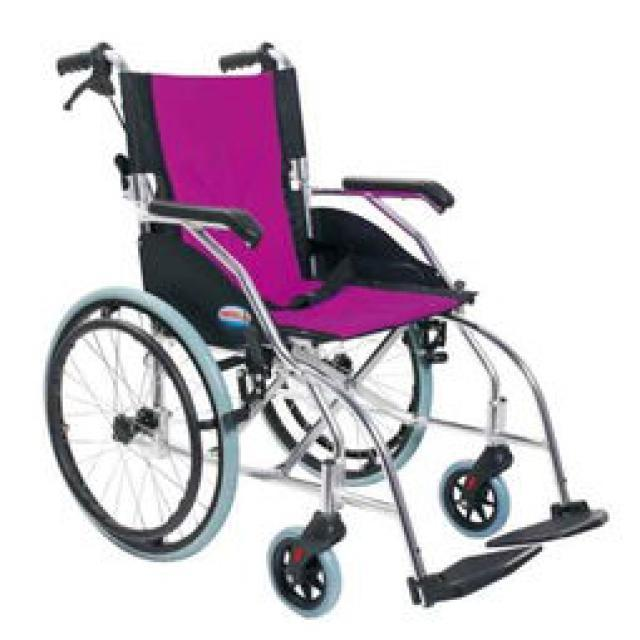wheelchairs: (40, 39, 610, 622)
